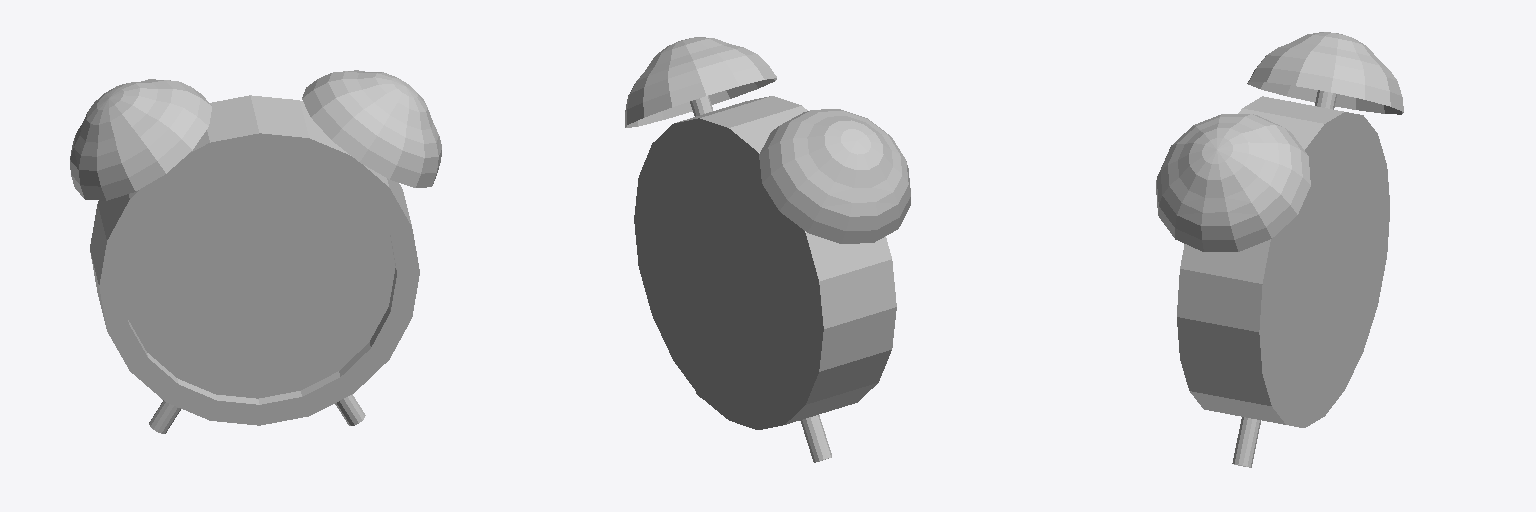
The model's file is blueClock.obj.
The picture shows the model from 3 angles: view 1: azimuth 30°, elevation 25°; view 2: azimuth 150°, elevation 25°; view 3: azimuth 270°, elevation 25°; orthographic projection.
Visible parts, largest first — view 1: clock2:initialShadingGroup clock2:pasted__pCylinder3 clock2:poly; view 2: clock2:initialShadingGroup clock2:pasted__pCylinder3 clock2:poly; view 3: clock2:initialShadingGroup clock2:pasted__pCylinder3 clock2:poly.
Part boxes in pixels (x1,y1,x2,y2): clock2:initialShadingGroup clock2:pasted__pCylinder3 clock2:poly: (70,70,441,433); clock2:initialShadingGroup clock2:pasted__pCylinder3 clock2:poly: (625,37,910,462); clock2:initialShadingGroup clock2:pasted__pCylinder3 clock2:poly: (1156,32,1403,467).
Size of the model in its own units: 10.68 by 11.55 by 7.46.